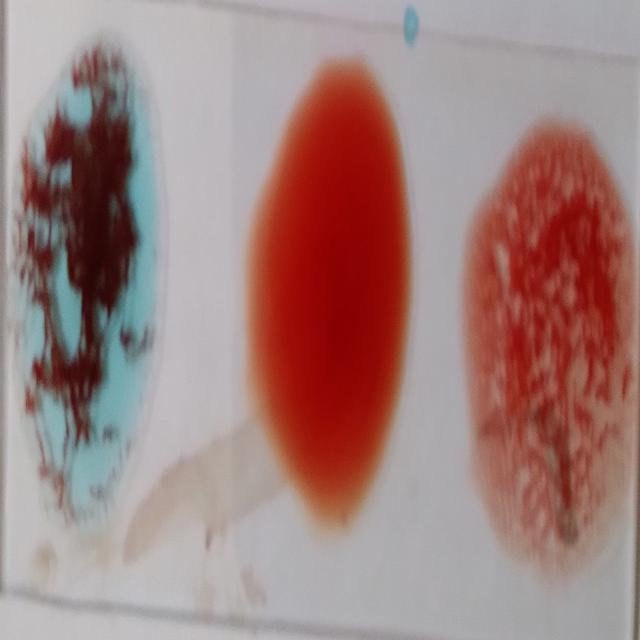A: (17, 54, 163, 517)
D: (482, 126, 634, 558)
